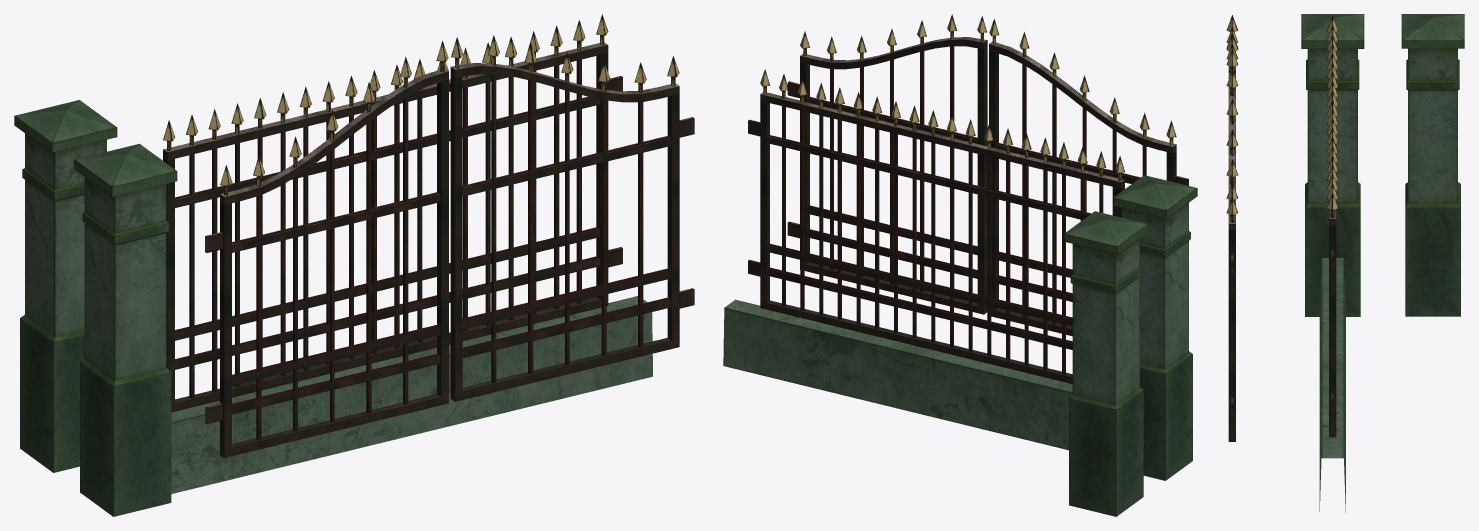
File: graveyard_fenceDraco.glb
3 renders of one model, left to right at view 1: azimuth 30°, elevation 25°; view 2: azimuth 150°, elevation 25°; view 3: azimuth 270°, elevation 25°, orthographic. The views are drawn at different scales.
Parts seen in each view (by area): view 1: fence_1, fence gate 1_3, fence gate 0_2, fence column_0; view 2: fence_1, fence column_0, fence gate 1_3, fence gate 0_2; view 3: fence_1, fence column_0, fence gate 1_3, fence gate 0_2.
Part boxes in pixels (left/top/right/bottom): fence_1: left=74, top=14, right=652, bottom=516; fence gate 1_3: left=450, top=35, right=694, bottom=401; fence gate 0_2: left=205, top=41, right=448, bottom=457; fence column_0: left=14, top=100, right=117, bottom=472; fence_1: left=723, top=69, right=1197, bottom=480; fence column_0: left=1064, top=211, right=1148, bottom=516; fence gate 1_3: left=787, top=14, right=987, bottom=314; fence gate 0_2: left=989, top=19, right=1188, bottom=336; fence_1: left=1301, top=14, right=1364, bottom=512; fence column_0: left=1401, top=14, right=1464, bottom=316; fence gate 1_3: left=1226, top=49, right=1238, bottom=441; fence gate 0_2: left=1226, top=15, right=1238, bottom=72.
Size of the model in its own units: 5.31 by 4.03 by 2.37.
Materials: 1 (1 with a texture image).
